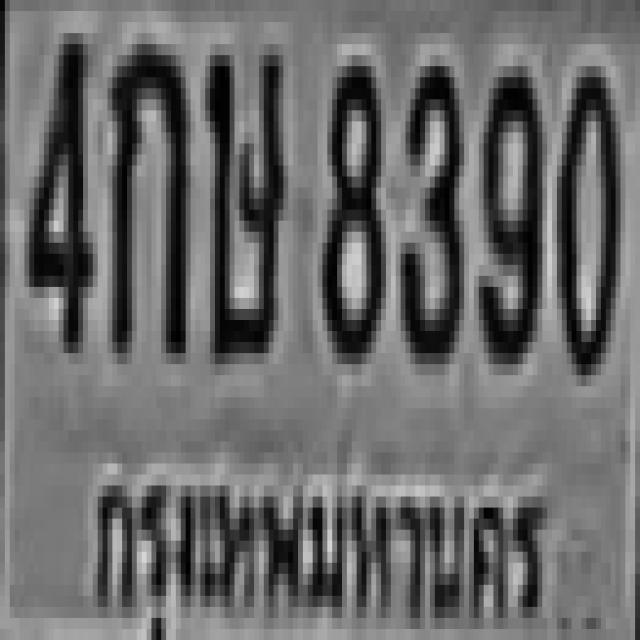0: (555, 55, 618, 364)
10GorGai: (108, 33, 186, 353)
3: (396, 55, 459, 353)
4: (24, 22, 88, 342)
48SorRueSi: (203, 33, 281, 353)
8: (318, 55, 381, 353)
9: (474, 55, 537, 353)
Bangkok: (78, 450, 548, 640)
